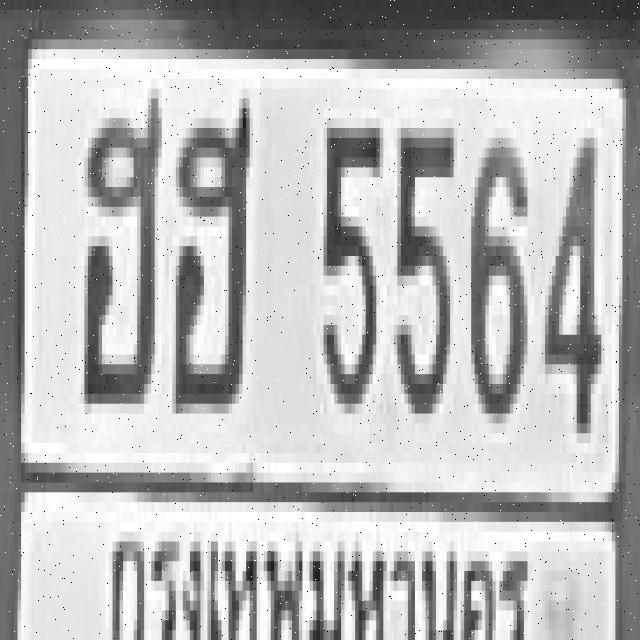4: (542, 123, 598, 419)
5: (320, 113, 380, 399), (394, 118, 450, 404)
53HorNokHook: (167, 89, 248, 404), (80, 89, 158, 394)
6: (468, 123, 524, 409)
Bangkok: (92, 482, 544, 640)
